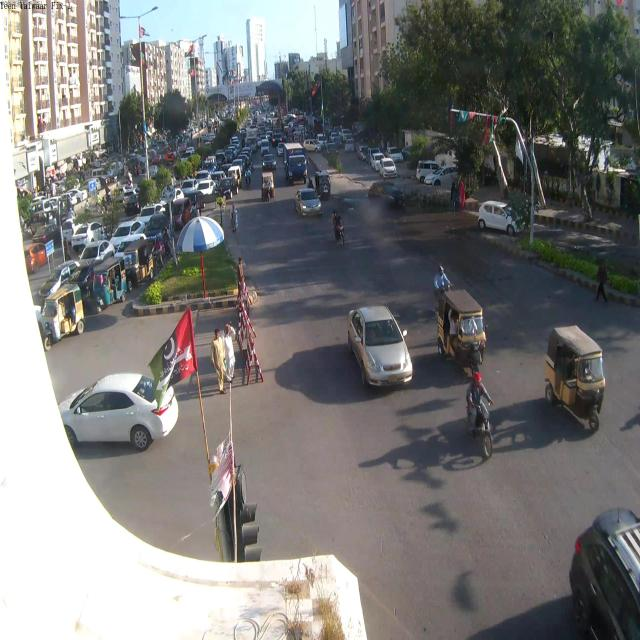car: (59, 378, 174, 454), (347, 306, 415, 390), (40, 260, 88, 345), (111, 217, 151, 255), (479, 201, 519, 237), (553, 232, 614, 252), (72, 222, 105, 252), (295, 188, 324, 218), (369, 184, 405, 203), (171, 195, 190, 230), (288, 152, 309, 182), (139, 203, 171, 222), (416, 160, 440, 183), (215, 178, 237, 200), (313, 170, 331, 196), (195, 177, 216, 198), (381, 158, 397, 178), (434, 165, 458, 178), (218, 149, 238, 163), (227, 161, 242, 179), (211, 167, 228, 182), (204, 156, 219, 173), (326, 136, 341, 152), (67, 190, 82, 205), (387, 149, 404, 162), (341, 130, 353, 148), (359, 148, 372, 164), (305, 138, 321, 151), (263, 156, 277, 170), (372, 152, 384, 168), (183, 178, 197, 190), (238, 151, 252, 162), (262, 139, 272, 152), (230, 136, 241, 146), (269, 134, 280, 144)
motorbike: (465, 392, 501, 462), (150, 247, 165, 275), (332, 222, 348, 245), (333, 213, 345, 243), (261, 178, 275, 201), (163, 237, 173, 260), (245, 174, 251, 190)
truck: (542, 326, 606, 434), (435, 274, 486, 368)
